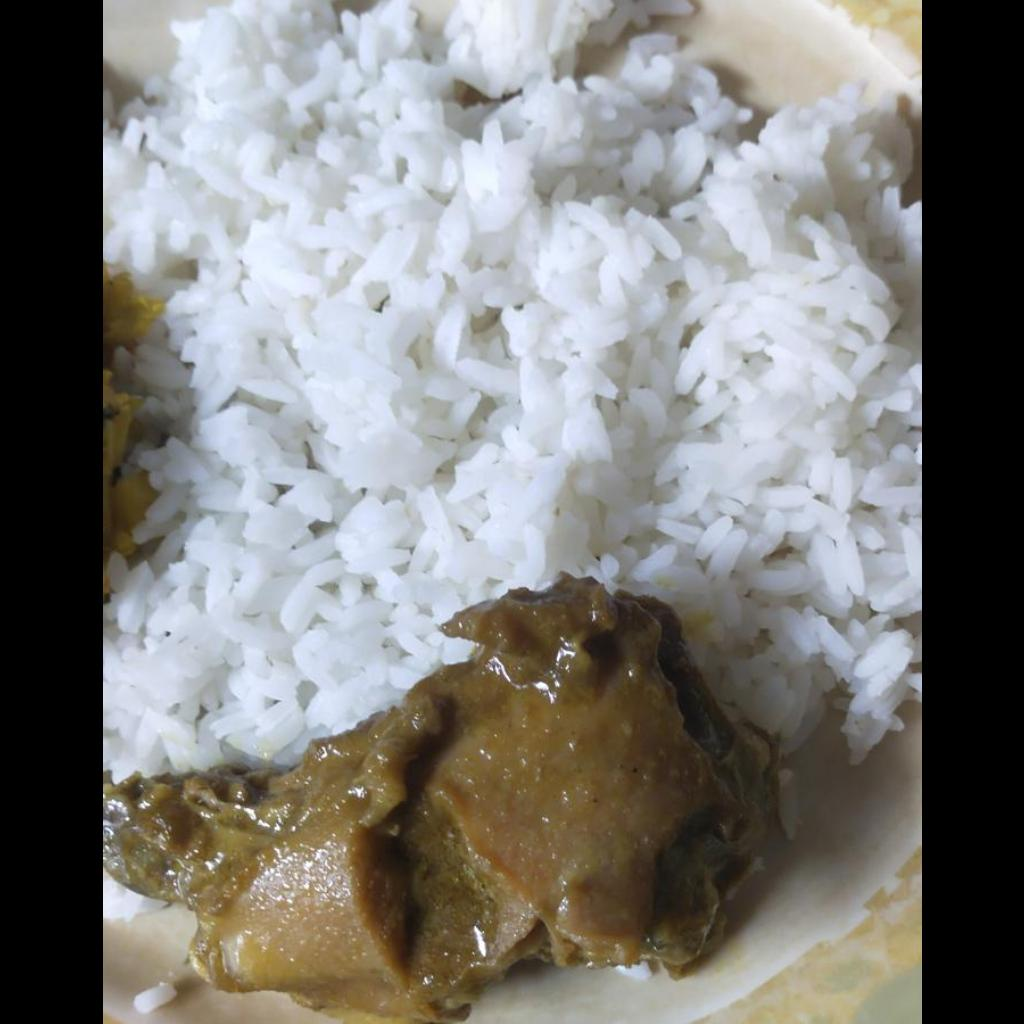chicken: (102, 576, 773, 1023)
rice: (103, 0, 921, 770)
